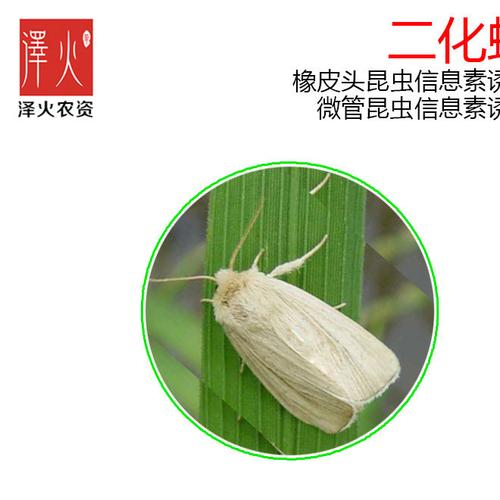Crambidae: (148, 204, 398, 434)
